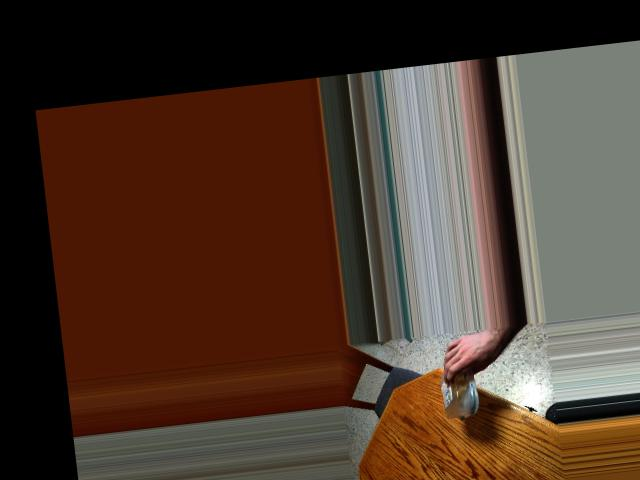cheese: (428, 354, 494, 426)
